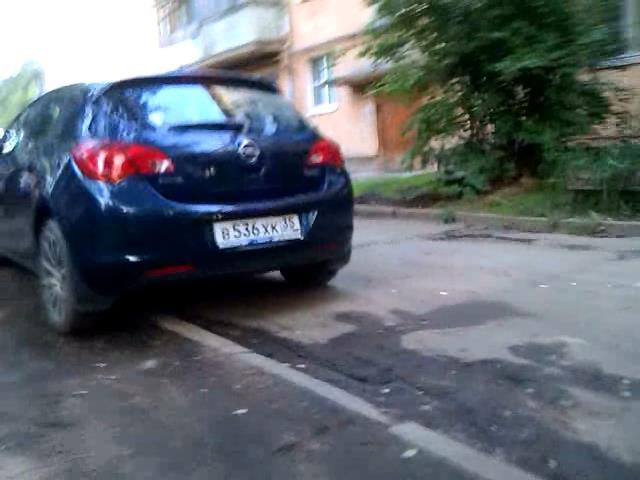car license plate: (207, 212, 303, 250)
